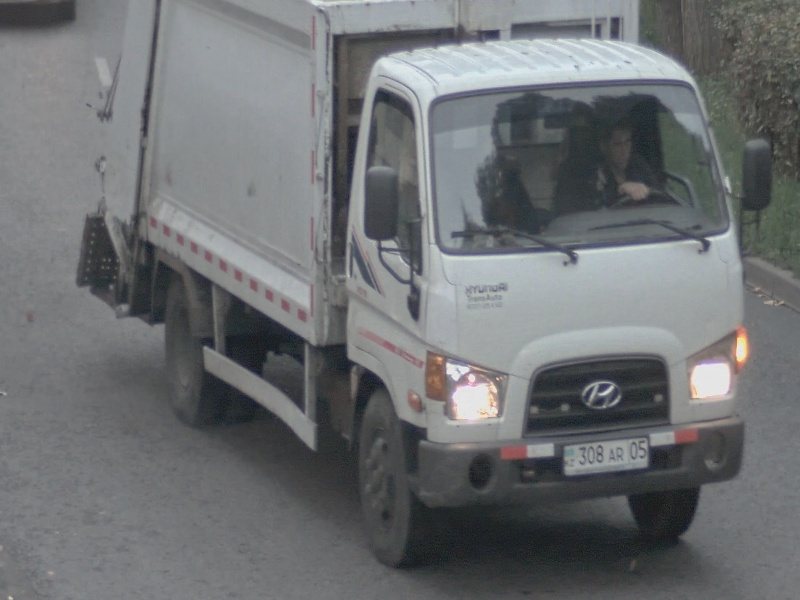plate: (561, 435, 650, 478)
